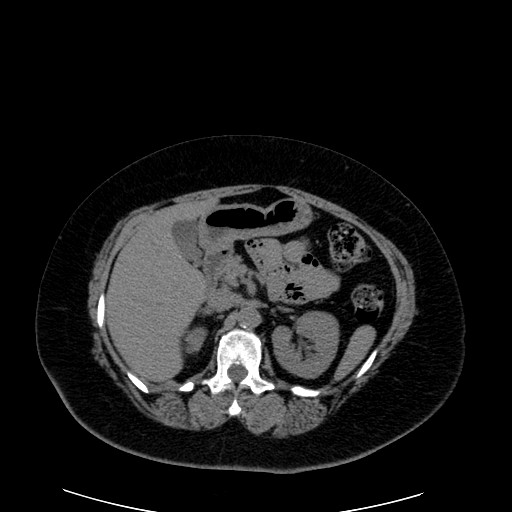vesicula: (170, 217, 205, 269)
